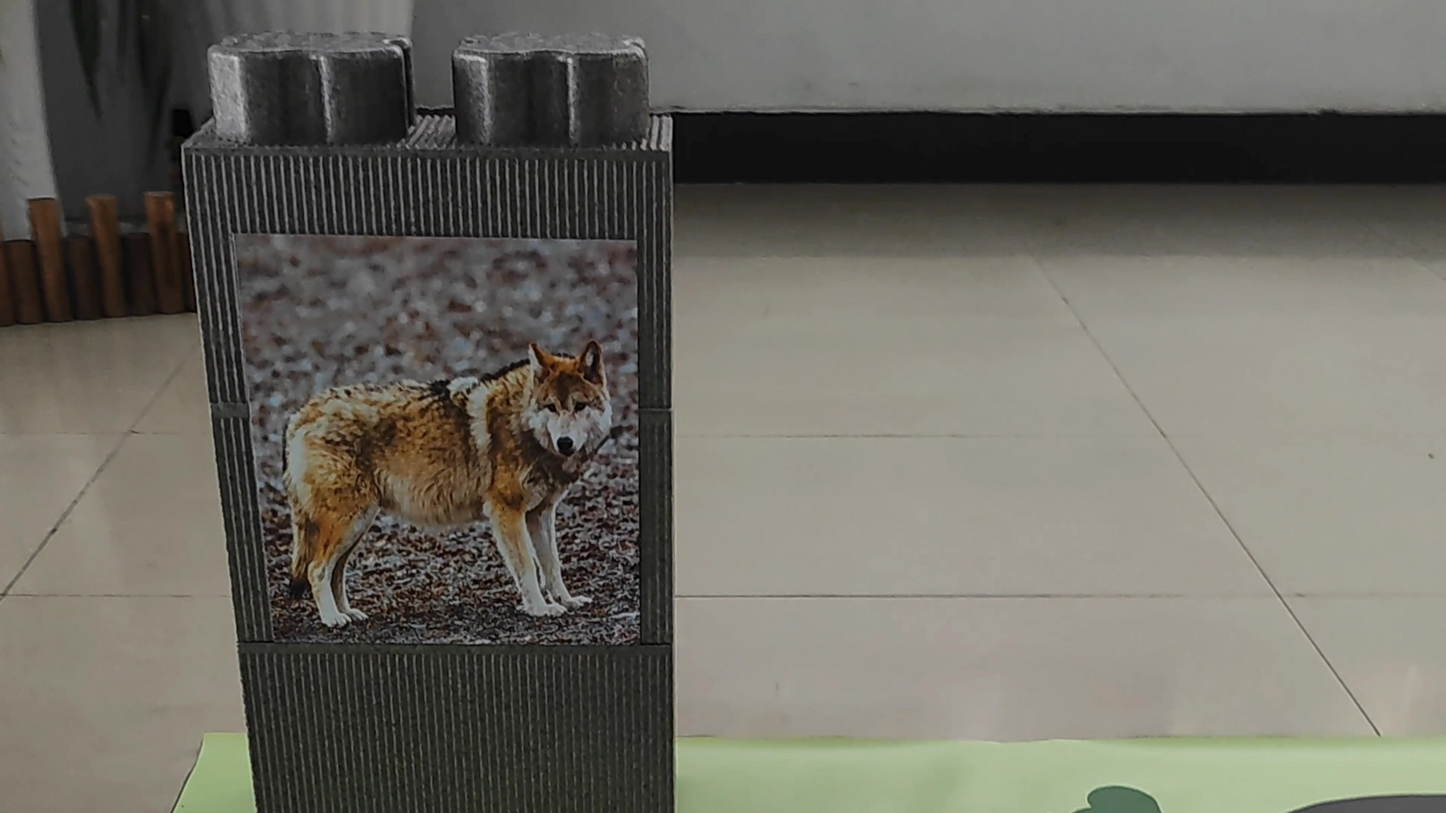wolf: (250, 314, 623, 638)
